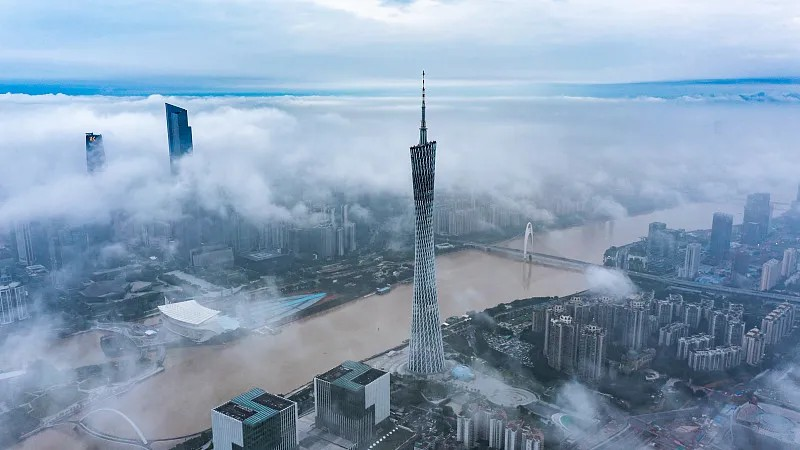Canton: (407, 70, 450, 375)
